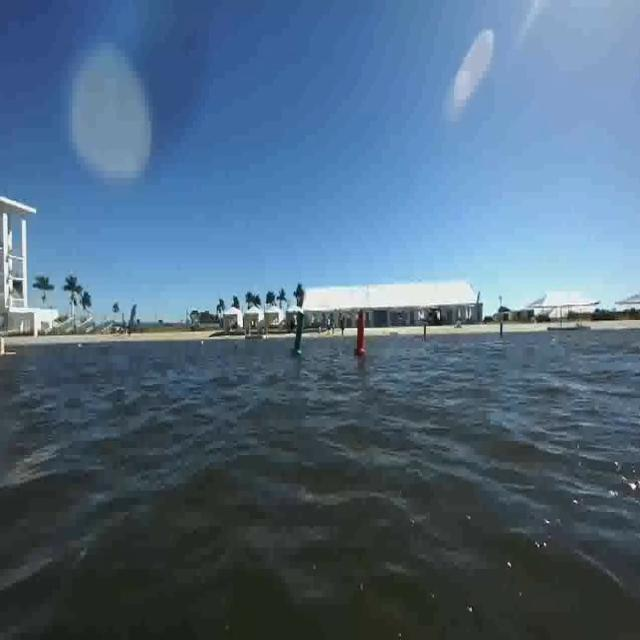green-column-buoy: (290, 310, 306, 356)
red-column-buoy: (353, 310, 368, 356)
